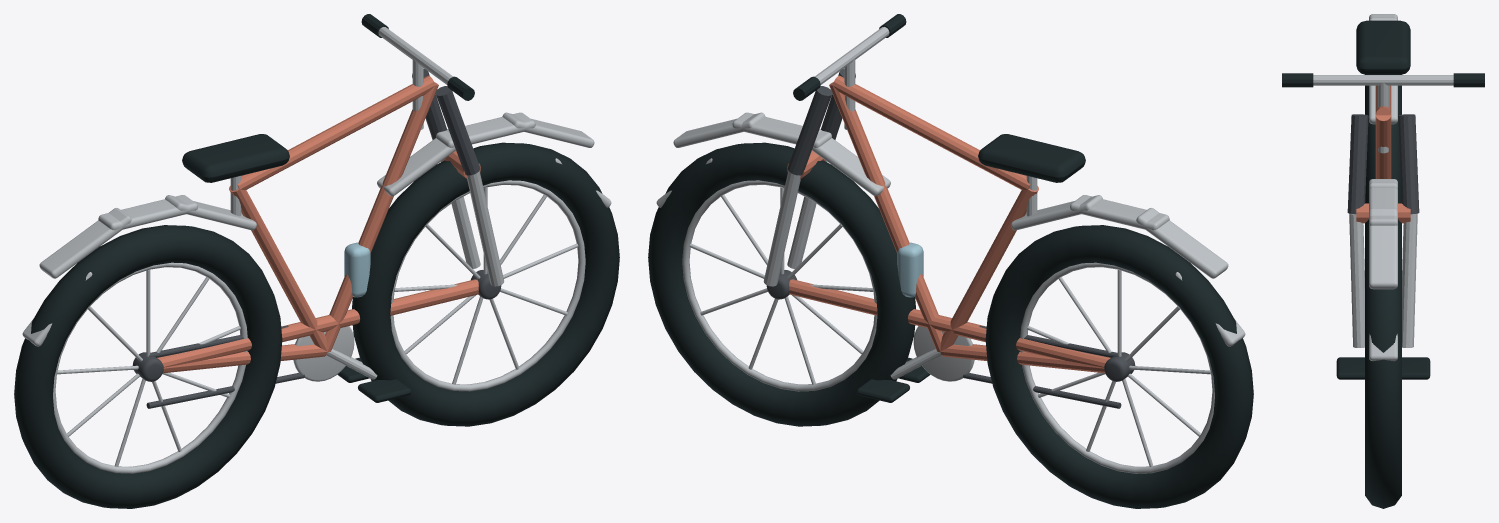
File: bike_adult_b.glb
3 renders of one model, left to right at view 1: azimuth 30°, elevation 25°; view 2: azimuth 150°, elevation 25°; view 3: azimuth 270°, elevation 25°, orthographic.
Visible parts, largest first — view 1: Rear wheel tyre.001, Front wheel tyre.001, Tint, Front wheel rim.001, Saddle.001, Rear wheel rim.001, Mudguard.006, Suspension slider, Chainring.001, Suspension stanchion, Mudguard.007, Mudguard.009 (+8 smaller); view 2: Rear wheel tyre.001, Front wheel tyre.001, Tint, Front wheel rim.001, Saddle.001, Rear wheel rim.001, Mudguard.006, Suspension slider.001, Chainring.001, Suspension stanchion.001, Mudguard.007, Mudguard.009 (+8 smaller); view 3: Front wheel tyre.001, Saddle.001, Mudguard.011, Suspension slider, Suspension slider.001, Tint, Suspension stanchion, Suspension stanchion.001, Handlebar.001, Rear wheel tyre.001, Mudguard.010, Pedal.002 (+6 smaller).
Part boxes in pixels (bbox=[...]): Rear wheel tyre.001: bbox=[14, 225, 282, 508]; Front wheel tyre.001: bbox=[352, 142, 619, 426]; Tint: bbox=[157, 75, 480, 373]; Front wheel rim.001: bbox=[390, 180, 585, 391]; Saddle.001: bbox=[182, 134, 289, 182]; Rear wheel rim.001: bbox=[53, 262, 247, 473]; Mudguard.006: bbox=[39, 208, 131, 278]; Suspension slider: bbox=[467, 171, 504, 286]; Chainring.001: bbox=[293, 326, 354, 381]; Suspension stanchion: bbox=[435, 86, 480, 175]; Mudguard.007: bbox=[98, 195, 197, 230]; Mudguard.009: bbox=[377, 129, 455, 196]; Rear wheel tyre.001: bbox=[985, 225, 1253, 508]; Front wheel tyre.001: bbox=[648, 142, 915, 426]; Tint: bbox=[787, 75, 1110, 373]; Front wheel rim.001: bbox=[682, 180, 877, 391]; Saddle.001: bbox=[978, 134, 1085, 182]; Rear wheel rim.001: bbox=[1020, 262, 1214, 473]; Mudguard.006: bbox=[1136, 208, 1228, 278]; Suspension slider.001: bbox=[763, 171, 800, 286]; Chainring.001: bbox=[913, 326, 974, 381]; Suspension stanchion.001: bbox=[787, 86, 832, 175]; Mudguard.007: bbox=[1070, 195, 1169, 230]; Mudguard.009: bbox=[812, 129, 890, 196]; Front wheel tyre.001: bbox=[1365, 219, 1401, 508]; Saddle.001: bbox=[1356, 20, 1410, 74]; Mudguard.011: bbox=[1369, 208, 1397, 289]; Suspension slider: bbox=[1349, 213, 1364, 347]; Suspension slider.001: bbox=[1402, 213, 1417, 347]; Tint: bbox=[1356, 85, 1410, 223]; Suspension stanchion: bbox=[1347, 114, 1368, 214]; Suspension stanchion.001: bbox=[1398, 114, 1419, 214]; Handlebar.001: bbox=[1313, 75, 1453, 85]; Rear wheel tyre.001: bbox=[1365, 74, 1401, 203]; Mudguard.010: bbox=[1369, 179, 1397, 225]; Pedal.002: bbox=[1336, 357, 1364, 379].
Bounding box in the file's own units: 1.78 × 1.1 × 0.52.
